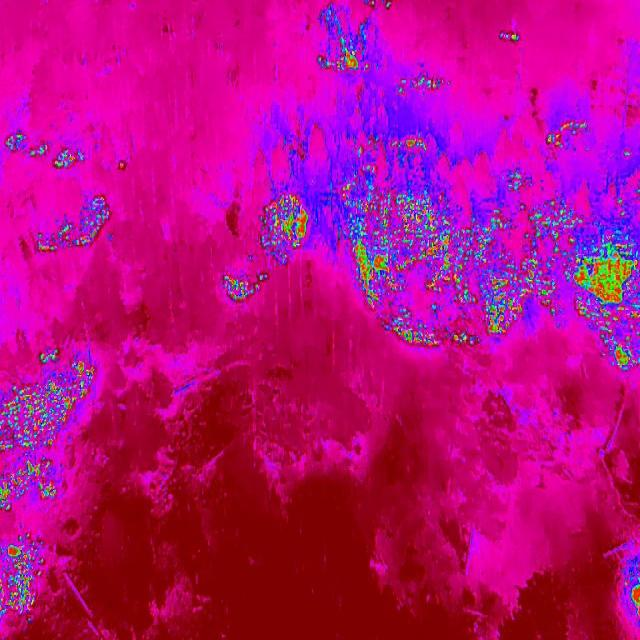fire: (336, 132, 566, 354), (0, 346, 97, 512), (568, 229, 638, 372), (35, 189, 113, 257), (0, 531, 49, 621), (0, 127, 85, 172), (260, 191, 308, 257), (316, 40, 371, 80), (218, 266, 268, 303), (543, 117, 591, 153), (396, 68, 446, 100), (626, 577, 640, 617), (495, 27, 521, 46), (112, 156, 128, 176)
